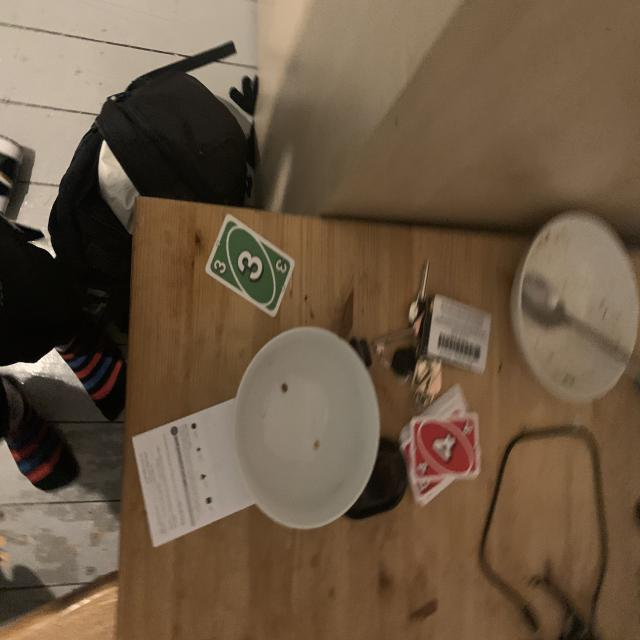lgreen-3: (211, 258, 229, 277)
